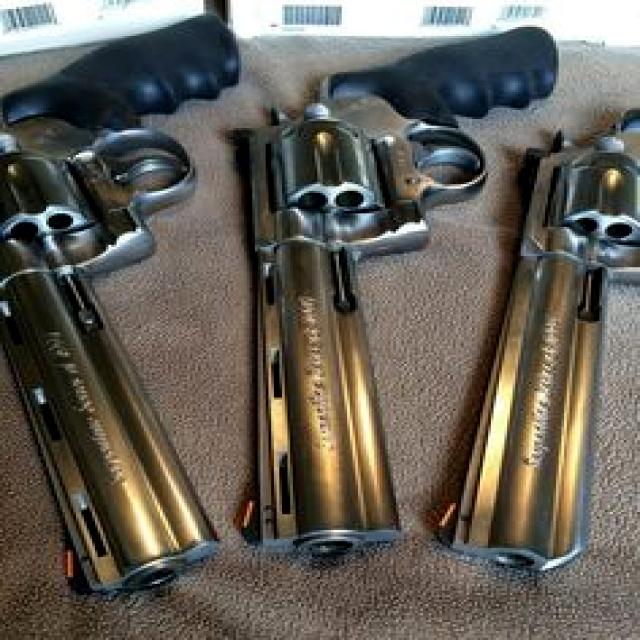revolver: (236, 1, 572, 586)
